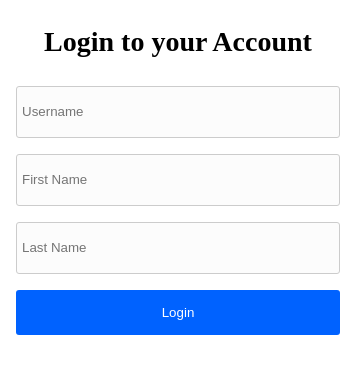
Scenario: fail login
This screenshot has width=357, height=368.
Click the button "Login".
click(178, 312)  # box left=16, top=290, right=340, bottom=335
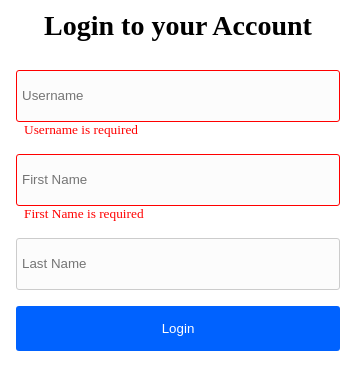
Expected: the text "Username is required" is shown, left=24, top=122, right=138, bottom=137
Expected: the text "First Name is required" is shown, left=24, top=206, right=144, bottom=221
